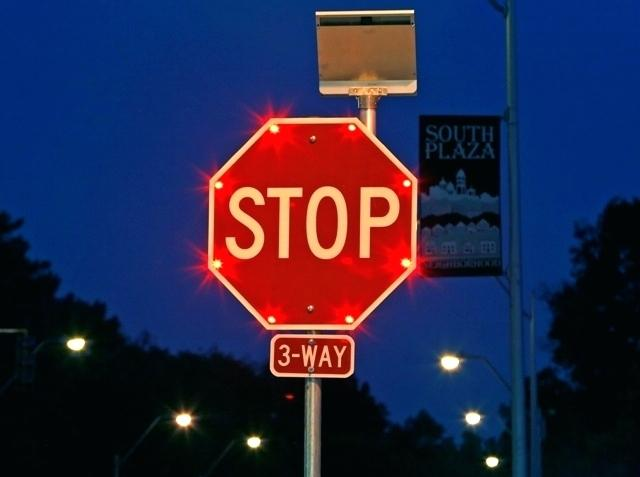stopsign: (208, 116, 417, 331)
